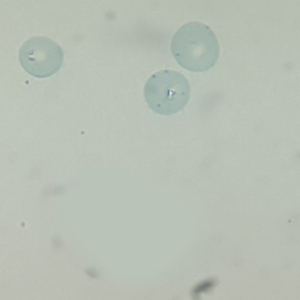erythrocyte: (17, 35, 65, 80)
punctate reticulocyte: (170, 20, 220, 74), (143, 69, 191, 117)
